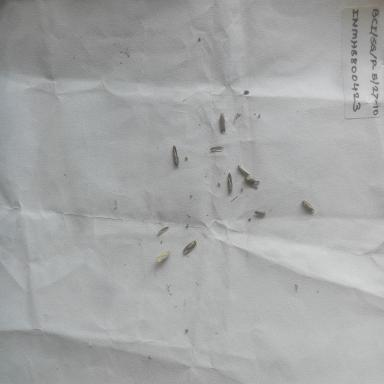pbw: (177, 233, 198, 256), (241, 171, 261, 190), (237, 164, 256, 180), (170, 143, 182, 168), (155, 248, 173, 264), (301, 196, 315, 216), (226, 168, 236, 196), (216, 111, 228, 134), (254, 204, 272, 219)
